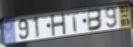1: (31, 16, 40, 40)
9: (105, 6, 118, 29), (18, 18, 30, 40)
B: (87, 8, 104, 32)
H: (50, 13, 67, 36)
T: (68, 11, 81, 33)
